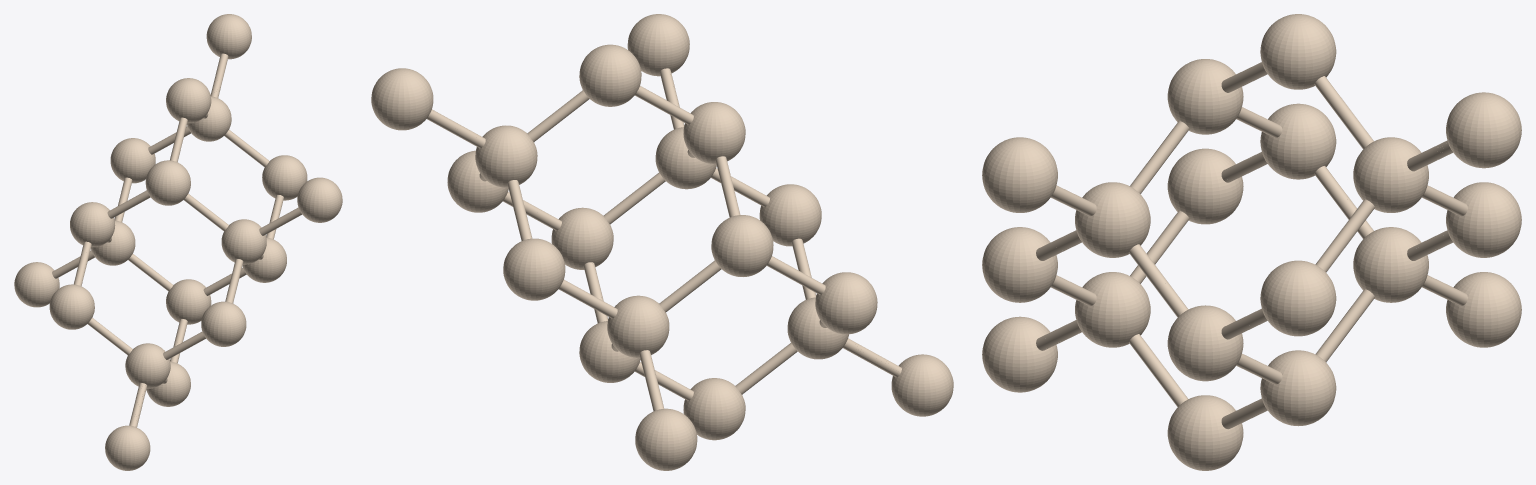
The model's file is silicon.dae.
The picture shows the model from 3 angles, left to right: view 1: azimuth 30°, elevation 25°; view 2: azimuth 150°, elevation 25°; view 3: azimuth 270°, elevation 25°; orthographic projection. The views are drawn at different scales.
Visible parts, largest first — view 1: Ball_Silicon_017, Ball_Silicon_010, Ball_Silicon_008, Ball_Silicon_011, Ball_Silicon_009, Ball_Silicon_013, Ball_Silicon_016, Ball_Silicon_001, Ball_Silicon_003, Ball_Silicon_018, Ball_Silicon_005, Ball_Silicon_015 (+6 smaller); view 2: Ball_Silicon_014, Ball_Silicon_016, Ball_Silicon_013, Ball_Silicon_018, Ball_Silicon_005, Ball_Silicon_009, Ball_Silicon_010, Ball_Silicon_002, Ball_Silicon_008, Ball_Silicon_004, Ball_Silicon_012, Ball_Silicon_017 (+6 smaller); view 3: Ball_Silicon_015, Ball_Silicon_016, Ball_Silicon_017, Ball_Silicon_013, Ball_Silicon_006, Ball_Silicon_009, Ball_Silicon_012, Ball_Silicon_007, Ball_Silicon_018, Ball_Silicon_014, Ball_Silicon_011, Ball_Silicon_010 (+6 smaller).
Part boxes in pixels (box(x1,y1,x2,y2)): Ball_Silicon_017: box(297, 177, 342, 222); Ball_Silicon_010: box(49, 284, 94, 329); Ball_Silicon_008: box(145, 160, 190, 205); Ball_Silicon_011: box(201, 301, 246, 346); Ball_Silicon_009: box(105, 425, 150, 470); Ball_Silicon_013: box(166, 78, 211, 123); Ball_Silicon_016: box(206, 14, 251, 59); Ball_Silicon_001: box(125, 343, 170, 388); Ball_Silicon_003: box(221, 219, 266, 264); Ball_Silicon_018: box(14, 262, 59, 307); Ball_Silicon_005: box(70, 202, 115, 247); Ball_Silicon_015: box(262, 155, 307, 200); Ball_Silicon_014: box(503, 238, 565, 300); Ball_Silicon_016: box(371, 68, 433, 130); Ball_Silicon_013: box(579, 44, 641, 106); Ball_Silicon_018: box(635, 408, 697, 470); Ball_Silicon_005: box(711, 215, 773, 276); Ball_Silicon_009: box(891, 354, 953, 416); Ball_Silicon_010: box(815, 272, 877, 334); Ball_Silicon_002: box(475, 125, 537, 187); Ball_Silicon_008: box(683, 102, 745, 163); Ball_Silicon_004: box(607, 295, 669, 357); Ball_Silicon_012: box(683, 378, 745, 440); Ball_Silicon_017: box(627, 14, 689, 76); Ball_Silicon_015: box(1260, 260, 1336, 336); Ball_Silicon_016: box(1446, 92, 1521, 168); Ball_Silicon_017: box(982, 137, 1057, 212); Ball_Silicon_013: box(1260, 14, 1336, 89); Ball_Silicon_006: box(1167, 305, 1243, 381); Ball_Silicon_009: box(982, 316, 1057, 392); Ball_Silicon_012: box(1167, 395, 1243, 470); Ball_Silicon_007: box(1260, 350, 1336, 426); Ball_Silicon_018: box(1446, 272, 1521, 347); Ball_Silicon_014: box(1446, 182, 1521, 257); Ball_Silicon_011: box(982, 227, 1057, 302); Ball_Silicon_010: box(1167, 148, 1243, 224).
Size of the model in its own units: 7.89 by 7.89 by 7.89.
